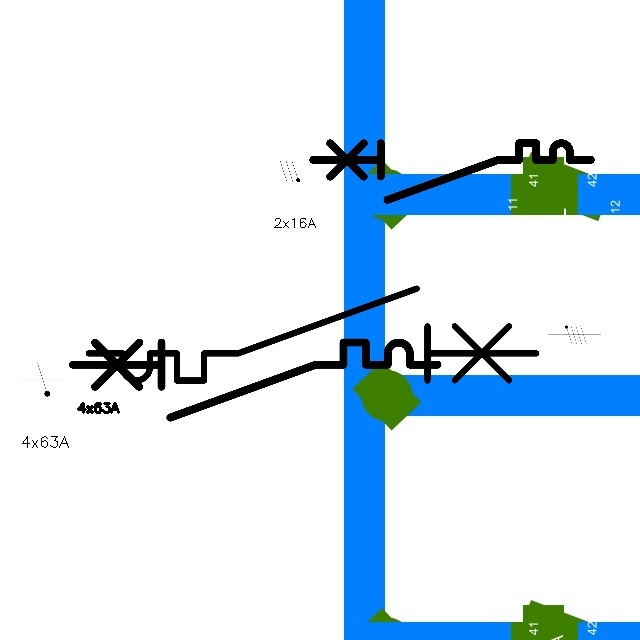interruptor_termomagnetico: (77, 277, 548, 392), (63, 333, 447, 427), (306, 136, 598, 207)
